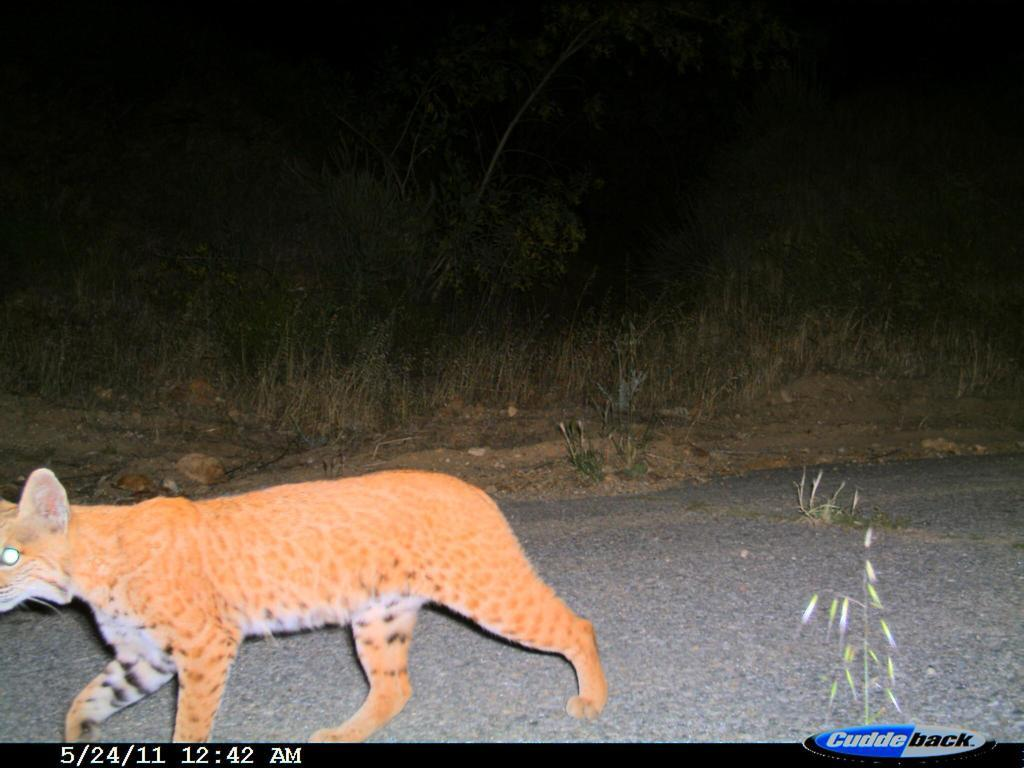bobcat: (3, 443, 623, 745)
